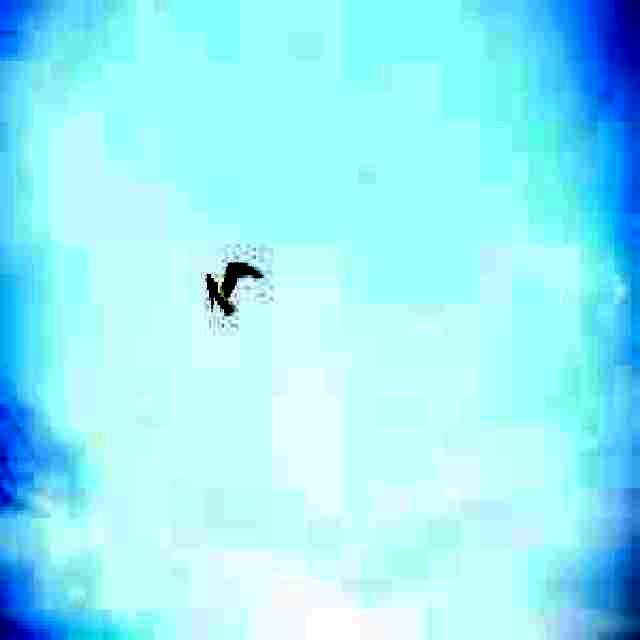bird: (204, 257, 264, 318)
